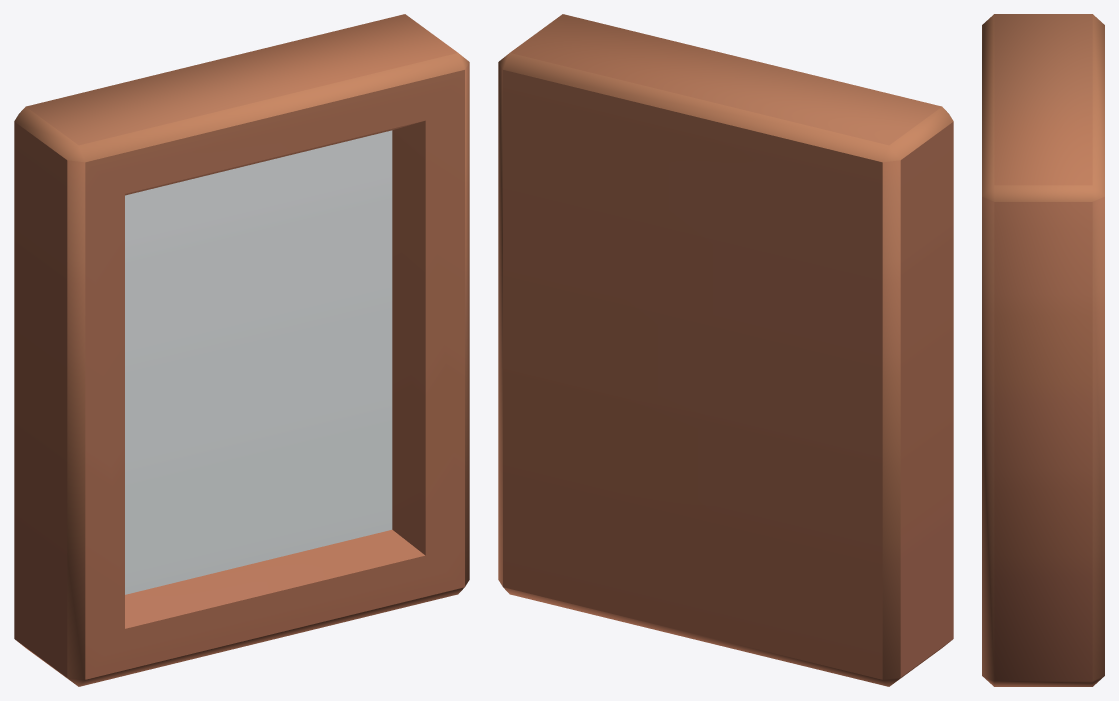
The model's file is pictureframe_medium.glb.
3 views of the same model, side by side, from view 1: azimuth 30°, elevation 25°; view 2: azimuth 150°, elevation 25°; view 3: azimuth 270°, elevation 25° (orthographic). The views are drawn at different scales.
Visible parts, largest first — view 1: pictureframe_medium; view 2: pictureframe_medium; view 3: pictureframe_medium.
Part boxes in pixels (x1,y1,x2,y2): pictureframe_medium: (14,14,469,686); pictureframe_medium: (498,14,953,686); pictureframe_medium: (982,14,1104,686).
Size of the model in its own units: 0.7 by 0.9 by 0.2.
1 material, 1 textured.
